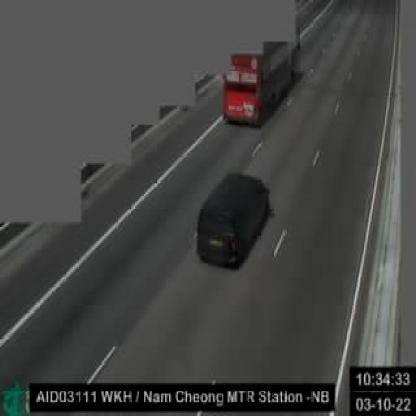Bus: (222, 40, 294, 121)
Car: (198, 172, 270, 267)
